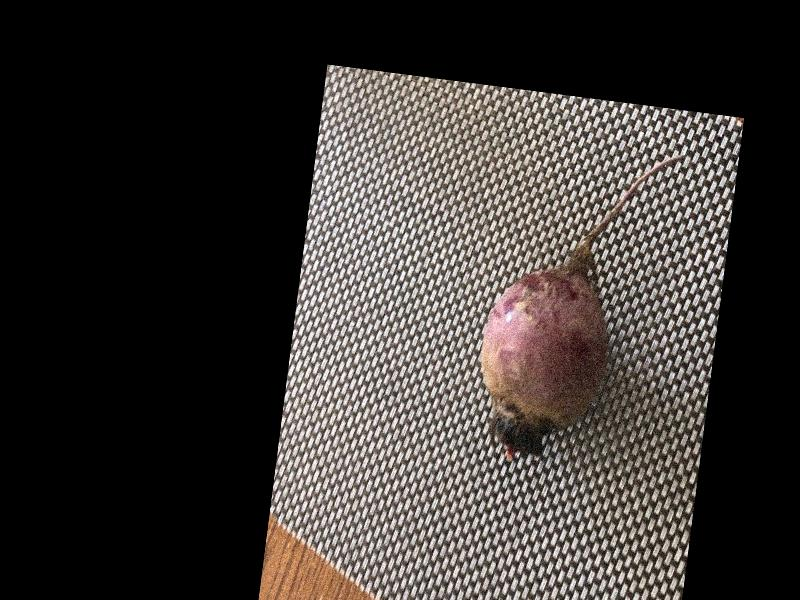Beet: (469, 130, 685, 478)
